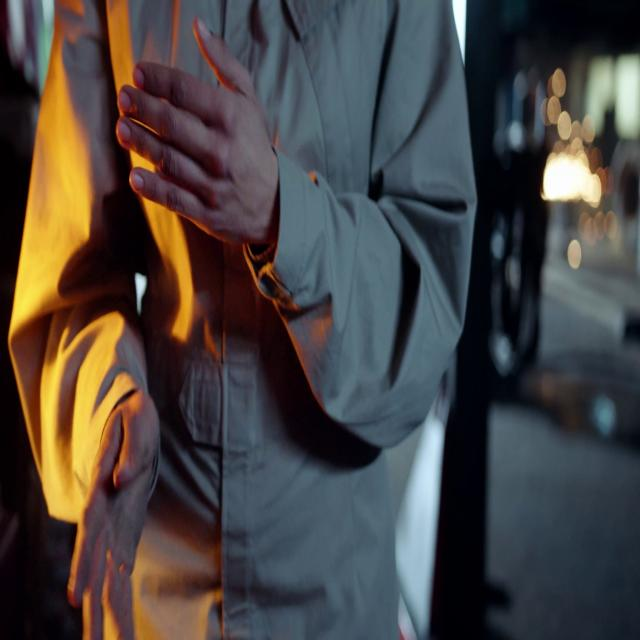not-gloved: (115, 15, 279, 247), (66, 385, 161, 637)
